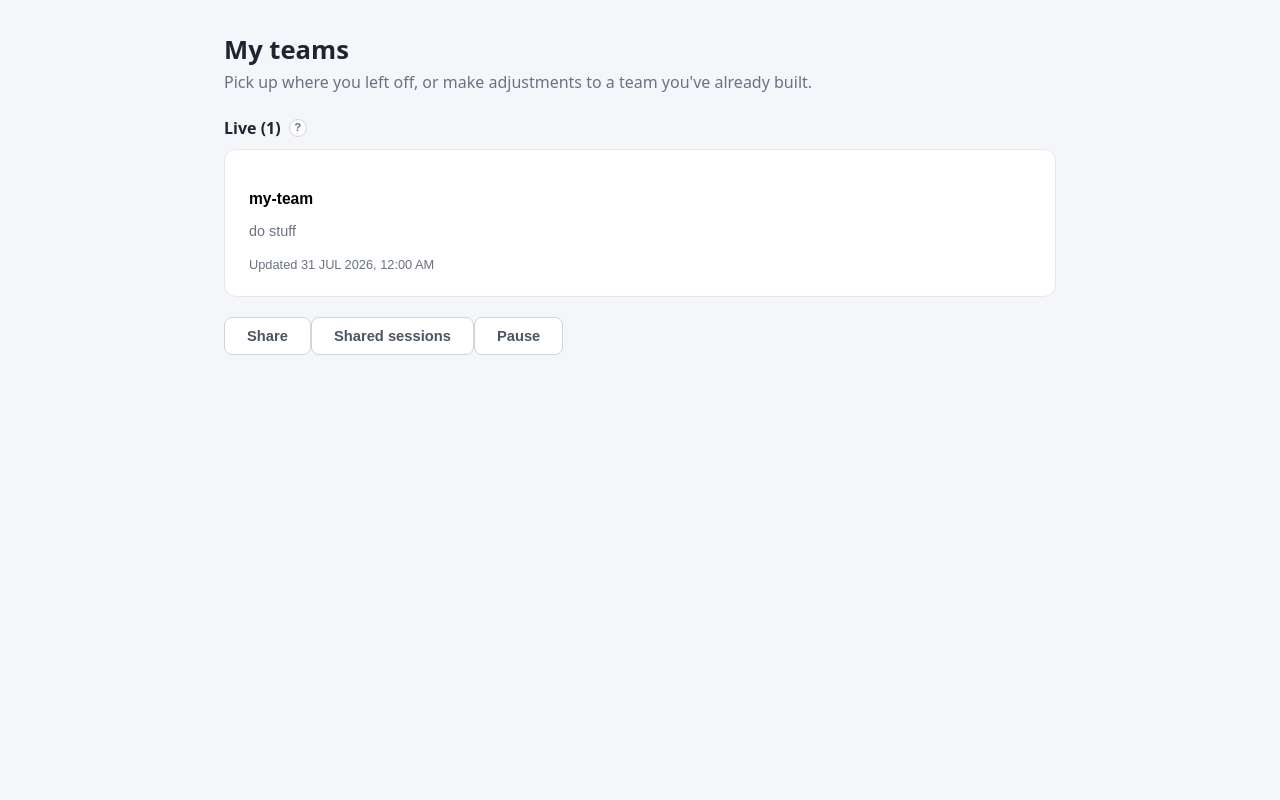
it: SessionsPage pausing a live team › pauses the team when confirmed
Click the button "Pause": (519, 336) [474,317,563,355]
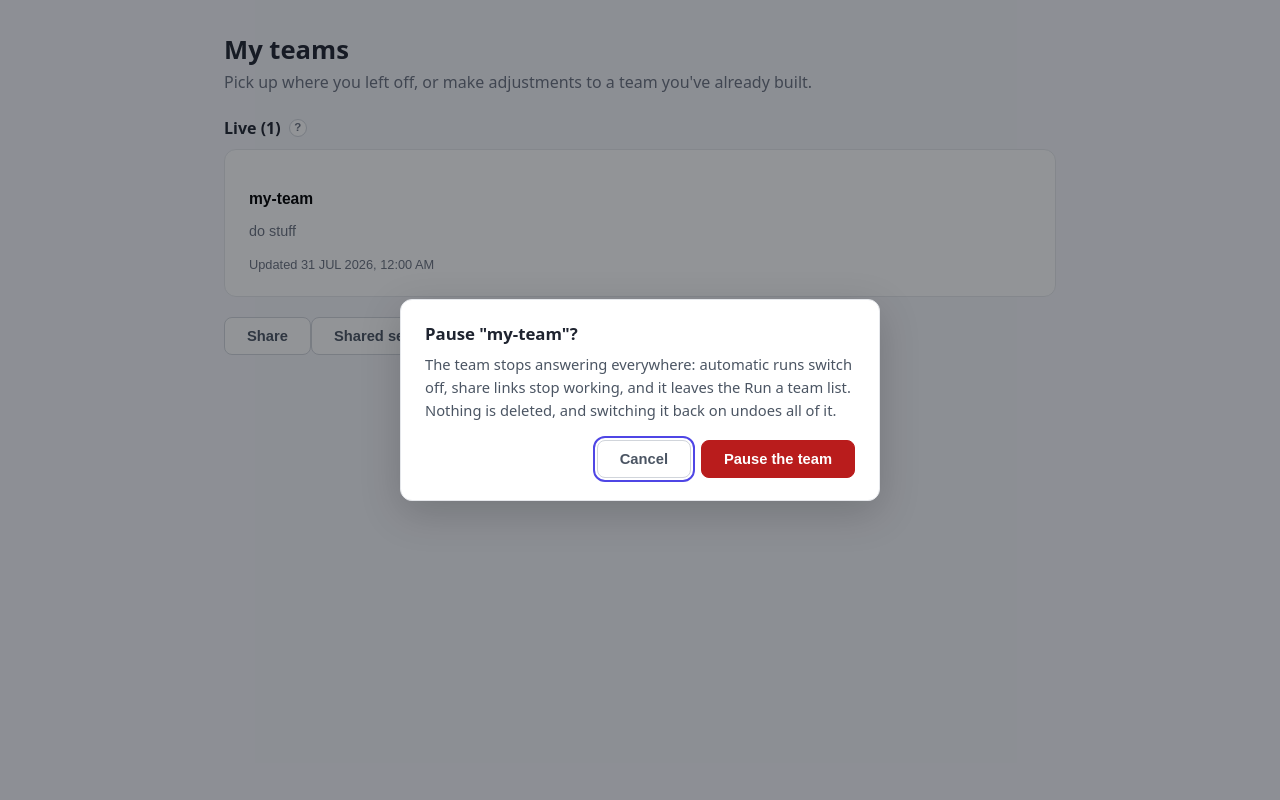
Click the button "Pause the team": (778, 459) [701,440,855,478]
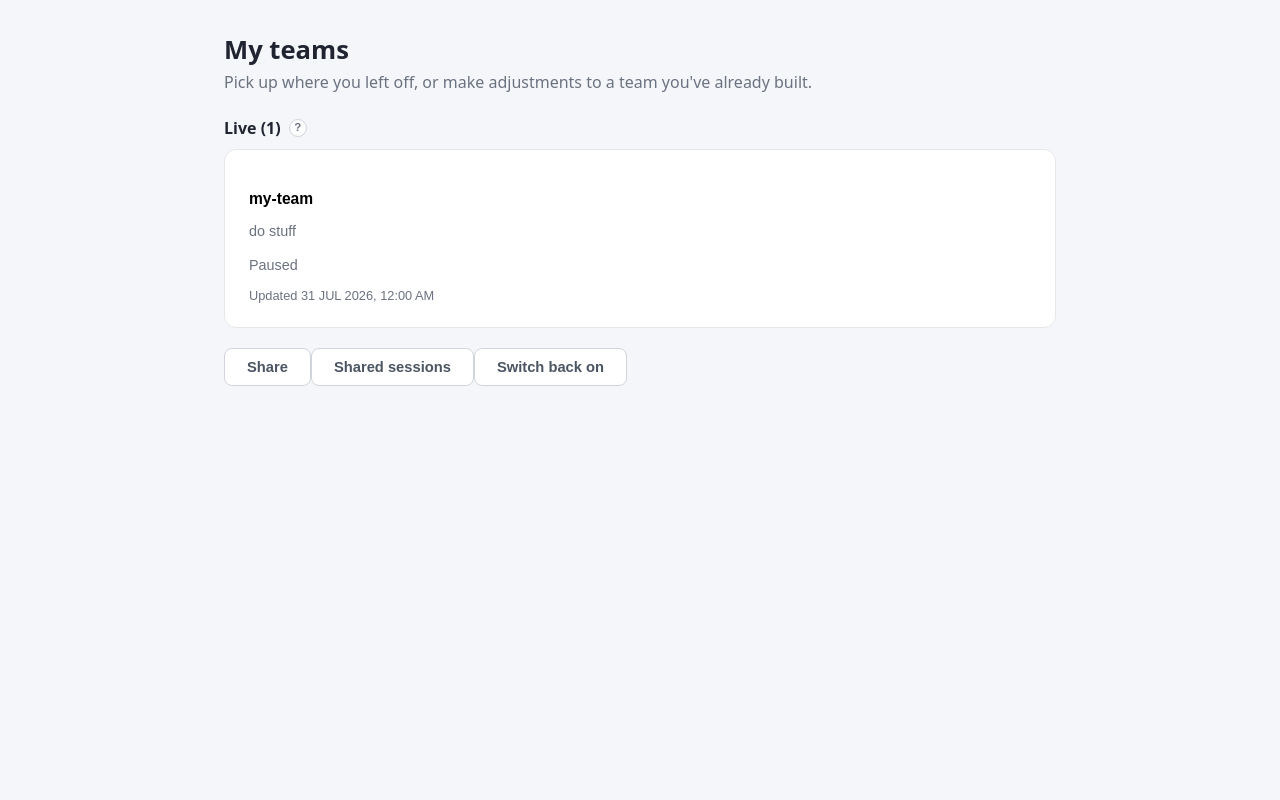
expect the button "Switch back on" is shown: met, box [474,348,627,386]
